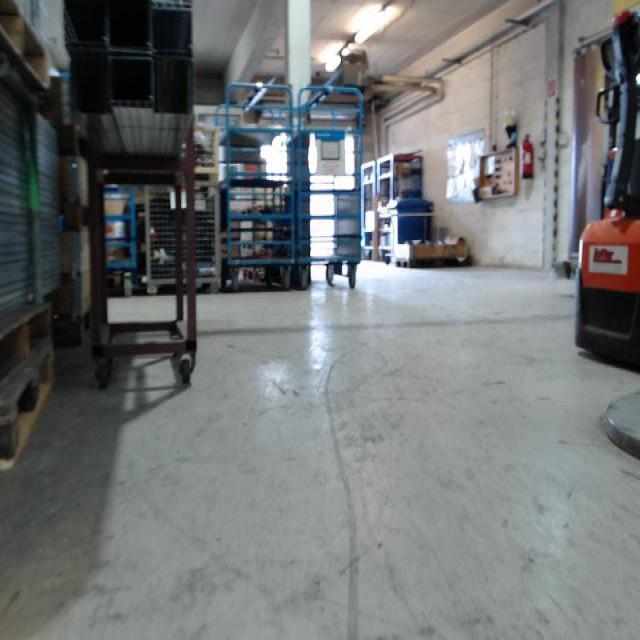pallet: (0, 345, 55, 472), (0, 300, 50, 401), (1, 0, 52, 92), (51, 307, 93, 348), (394, 259, 466, 273)
pallet_truck: (565, 14, 640, 378), (586, 73, 622, 219)
stillage: (138, 182, 228, 300), (176, 120, 224, 180)
